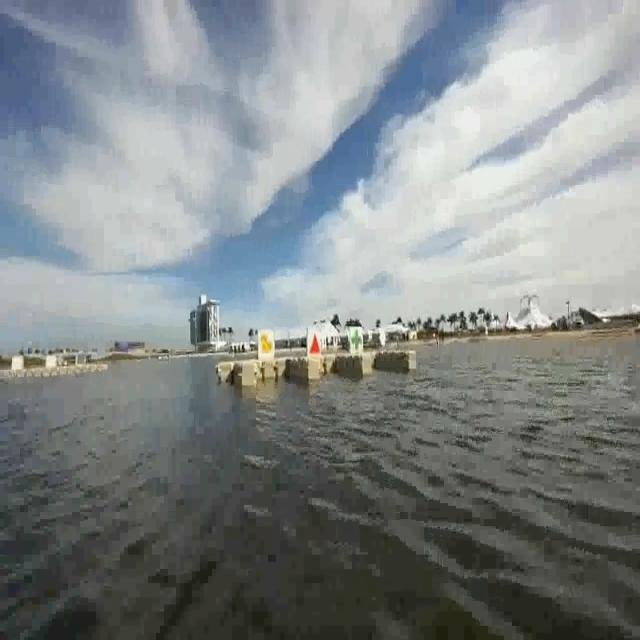blue-cross: (351, 326, 362, 351)
red-dot: (307, 329, 320, 354)
yellow-duck: (260, 329, 274, 356)
